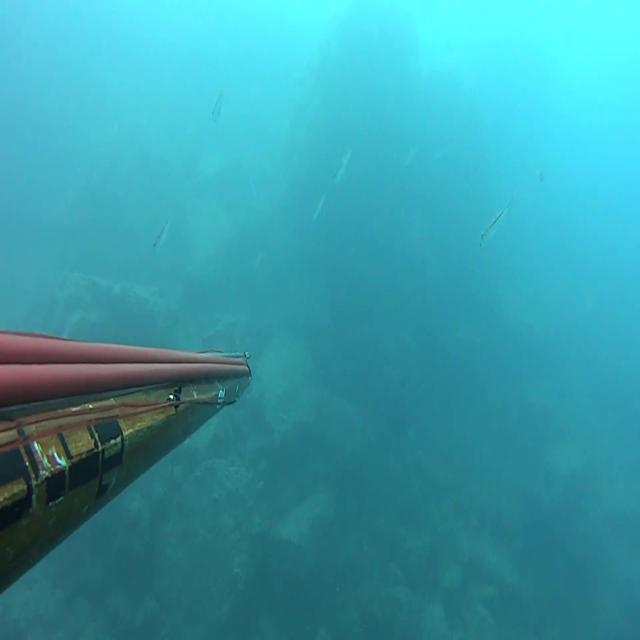Balon Baligi: (480, 198, 512, 246), (334, 147, 352, 185), (153, 217, 171, 254), (212, 84, 225, 122), (312, 193, 326, 221)
